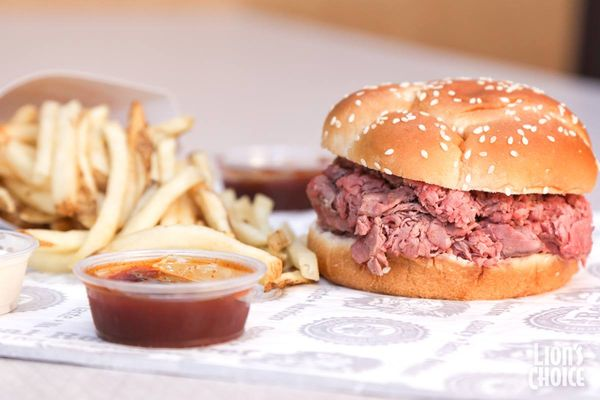pizza: (0, 225, 39, 316)
soup: (303, 76, 599, 302)
sushi: (0, 72, 193, 272), (74, 248, 267, 348), (0, 226, 39, 315)
